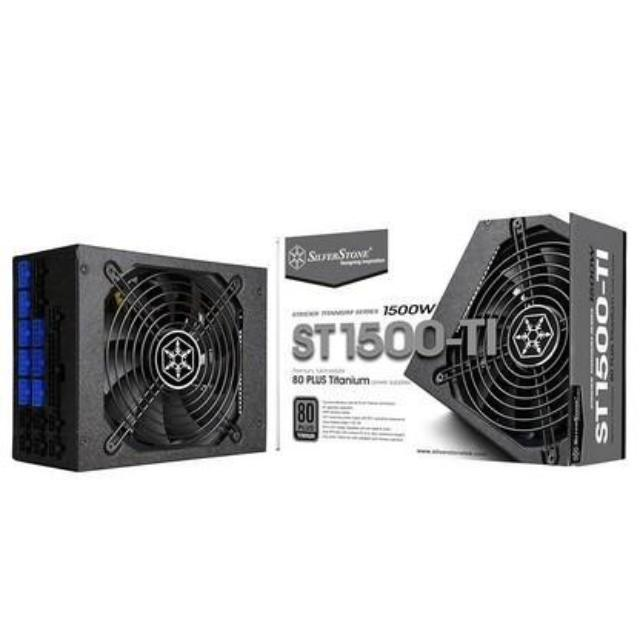PSU: (2, 225, 270, 492)
